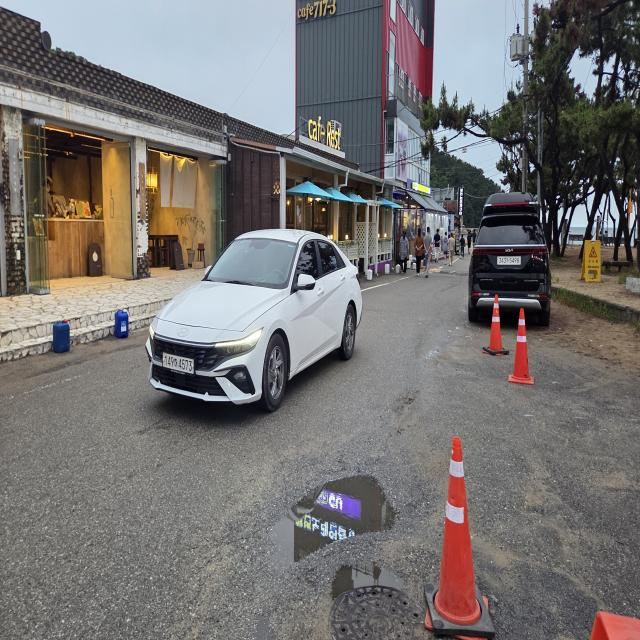car: (141, 200, 388, 432), (462, 179, 568, 346)
